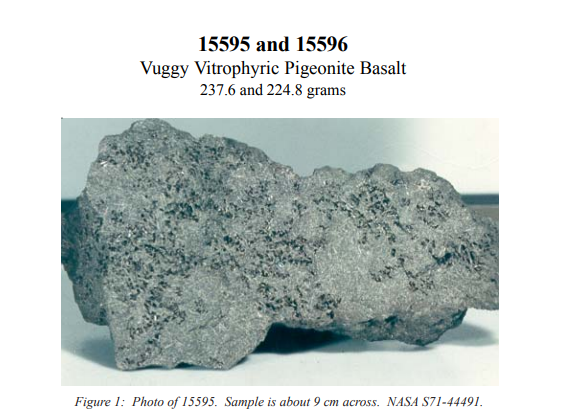Basalt: (65, 116, 498, 354)
